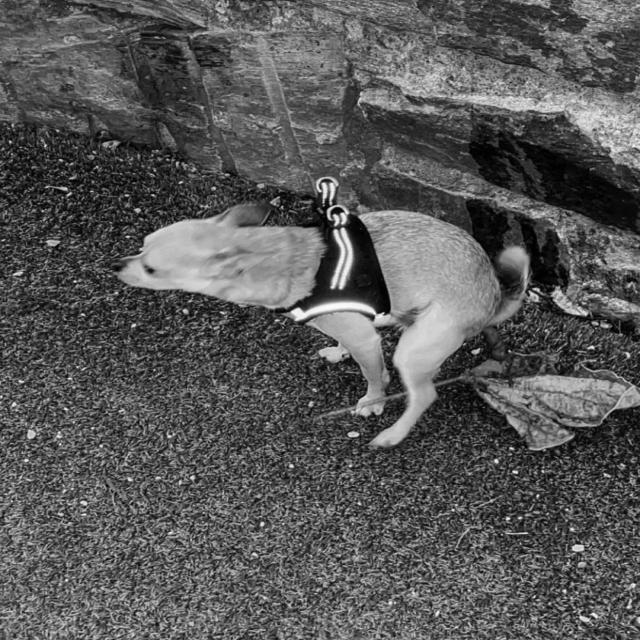squatting: (102, 198, 544, 456)
